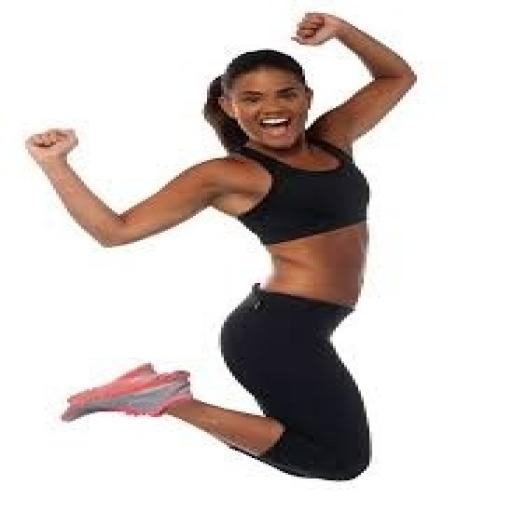dancing: (20, 9, 422, 484)
